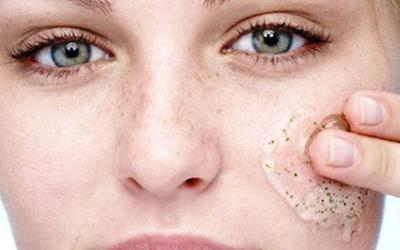Dry-Skin: (64, 210, 125, 244), (117, 75, 149, 134), (206, 162, 237, 210)
